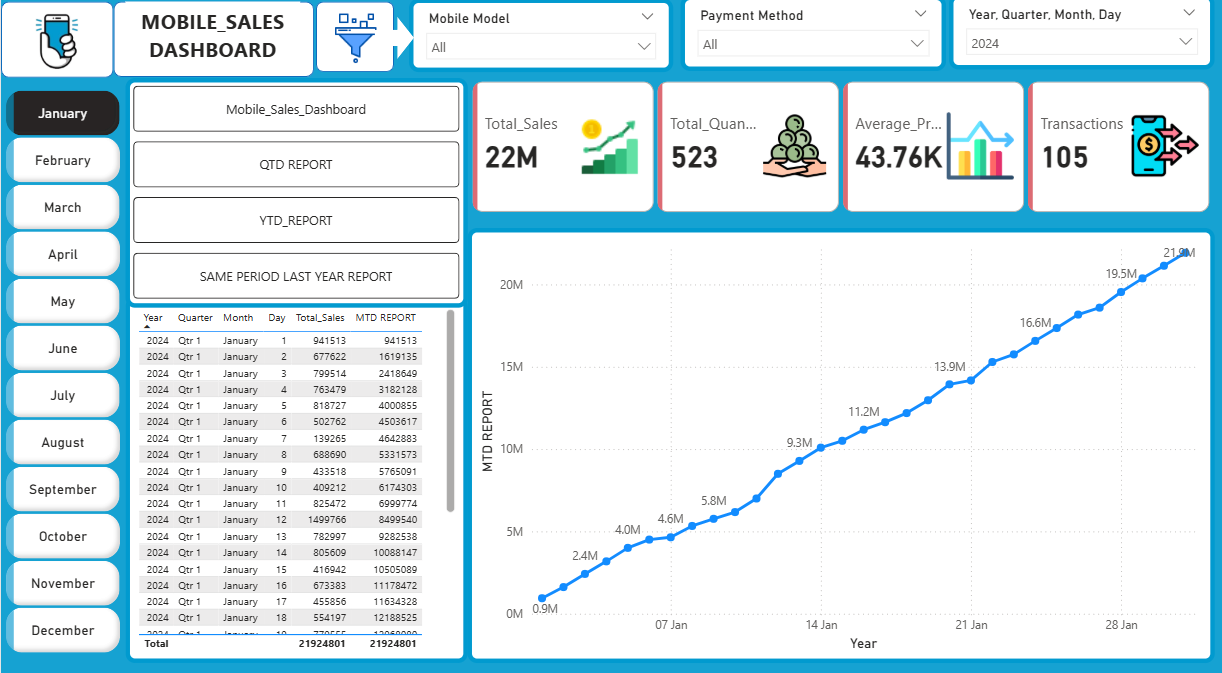

The dashboard page shown, as its layout file describes it:
{"tool":"powerbi","page":{"name":"MTD REPORT","canvas":[1280,720],"ordinal":1},"visuals":[{"type":"shape","box":[116.7,10.6,209.1,78.8],"z":0},{"type":"shape","box":[0,11.3,117.2,79.4],"z":1000},{"type":"image","box":[15.1,9.4,85,85],"z":2000},{"type":"cardVisual","fields":{"Data":["Mobile_Sales_Data.Total_Sales","Mobile_Sales_Data.Total_Unit_Sold","Mobile_Sales_Data.Average_Price","Mobile_Sales_Data.Count_Transaction_ID"]},"box":[486.1,89.1,778.4,146.9],"z":3000},{"type":"textbox","box":[130.3,10.6,181.8,71.2],"z":4000},{"type":"slicer","fields":{"Values":["Mobile_Sales_Data.Mobile Model"]},"box":[425,8.3,275,76.7],"z":5000},{"type":"slicer","fields":{"Values":["Mobile_Sales_Data.Payment Method"]},"box":[708.3,5,276.7,78.3],"z":6000},{"type":"slicer","fields":{"Values":["Custom_Calender.Date.Variation.Date Hierarchy.Year","Custom_Calender.Date.Variation.Date Hierarchy.Quarter","Custom_Calender.Date.Variation.Date Hierarchy.Month","Custom_Calender.Date.Variation.Date Hierarchy.Day"]},"box":[988.3,3.3,276.7,78.3],"z":7000},{"type":"shape","box":[328.6,11.2,81.4,73.4],"z":8000},{"type":"image","box":[338.2,0,63.8,98.9],"z":9000},{"type":"shape","box":[389.3,27.1,41.5,44.7],"z":10000},{"type":"tableEx","fields":{"Values":["Custom_Calender.Date.Variation.Date Hierarchy.Year","Custom_Calender.Date.Variation.Date Hierarchy.Quarter","Custom_Calender.Date.Variation.Date Hierarchy.Month","Custom_Calender.Date.Variation.Date Hierarchy.Day","Mobile_Sales_Data.Total_Sales","Mobile_Sales_Data.MTD REPORT"]},"box":[129.7,318.8,356.4,381.4],"z":11000},{"type":"lineChart","fields":{"Category":["Custom_Calender.Date.Variation.Date Hierarchy.Year","Custom_Calender.Date.Variation.Date Hierarchy.Quarter","Custom_Calender.Date.Variation.Date Hierarchy.Month","Custom_Calender.Date.Variation.Date Hierarchy.Day"],"Y":["Mobile_Sales_Data.MTD REPORT"]},"box":[486.1,247,778.4,453.3],"z":12000},{"type":"pageNavigator","box":[129.7,90.7,356.4,239.1],"z":13000},{"type":"advancedSlicerVisual","fields":{"Values":["Custom_Calender.Date.Variation.Date Hierarchy.Month"]},"box":[0,98.5,129.7,601.8],"z":14000}]}

Visuals, with their boxes in screenshot pixels (x1, y1, x2, y2), scaled from the page's 1280x720 canvas onto the 1222x673 screenshot:
shape: {"x1": 111, "y1": 10, "x2": 311, "y2": 84}
shape: {"x1": 0, "y1": 11, "x2": 112, "y2": 85}
image: {"x1": 14, "y1": 9, "x2": 96, "y2": 88}
cardVisual - Mobile_Sales_Data.Total_Sales x Mobile_Sales_Data.Total_Unit_Sold: {"x1": 464, "y1": 83, "x2": 1207, "y2": 221}
textbox: {"x1": 124, "y1": 10, "x2": 298, "y2": 76}
slicer - Mobile_Sales_Data.Mobile Model: {"x1": 406, "y1": 8, "x2": 668, "y2": 79}
slicer - Mobile_Sales_Data.Payment Method: {"x1": 676, "y1": 5, "x2": 940, "y2": 78}
slicer - Custom_Calender.Date.Variation.Date Hierarchy.Year x Custom_Calender.Date.Variation.Date Hierarchy.Quarter: {"x1": 944, "y1": 3, "x2": 1208, "y2": 76}
shape: {"x1": 314, "y1": 10, "x2": 391, "y2": 79}
image: {"x1": 323, "y1": 0, "x2": 384, "y2": 92}
shape: {"x1": 372, "y1": 25, "x2": 411, "y2": 67}
tableEx - Custom_Calender.Date.Variation.Date Hierarchy.Year x Custom_Calender.Date.Variation.Date Hierarchy.Quarter: {"x1": 124, "y1": 298, "x2": 464, "y2": 654}
lineChart - Custom_Calender.Date.Variation.Date Hierarchy.Year x Custom_Calender.Date.Variation.Date Hierarchy.Quarter: {"x1": 464, "y1": 231, "x2": 1207, "y2": 655}
pageNavigator: {"x1": 124, "y1": 85, "x2": 464, "y2": 308}
advancedSlicerVisual - Custom_Calender.Date.Variation.Date Hierarchy.Month: {"x1": 0, "y1": 92, "x2": 124, "y2": 655}
